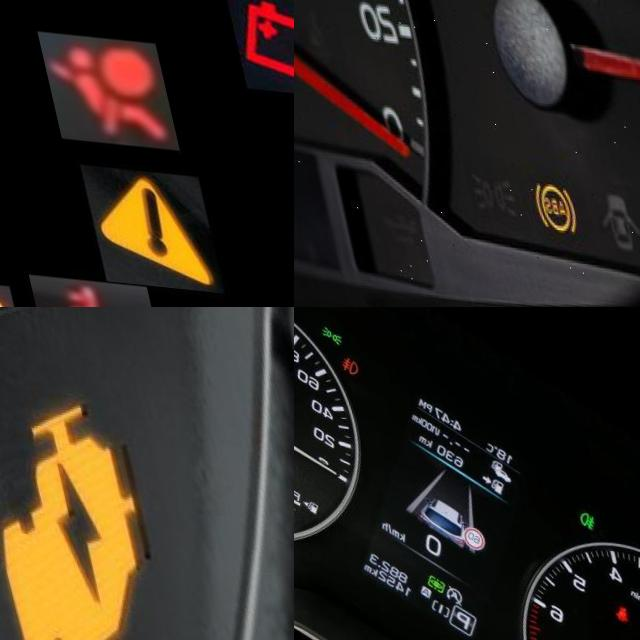Central Warning lamp: (63, 158, 202, 285)
Engine cooling system: (5, 270, 141, 307)
Seat Belt: (594, 593, 613, 617)
